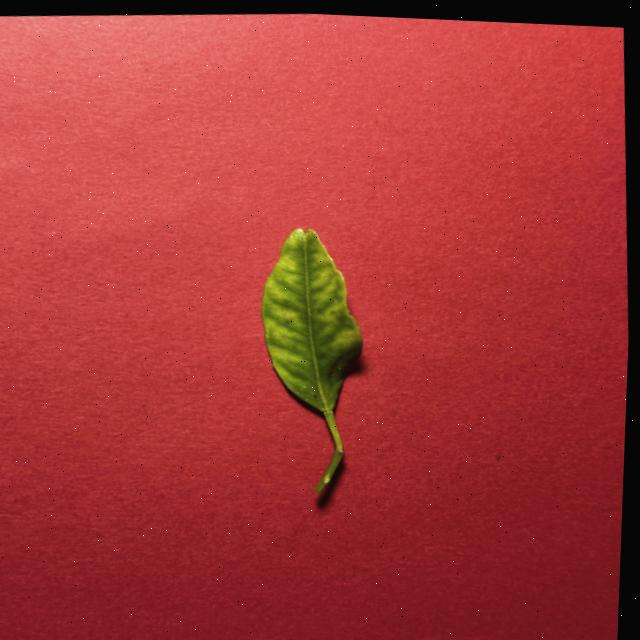greening: (262, 229, 363, 492)
